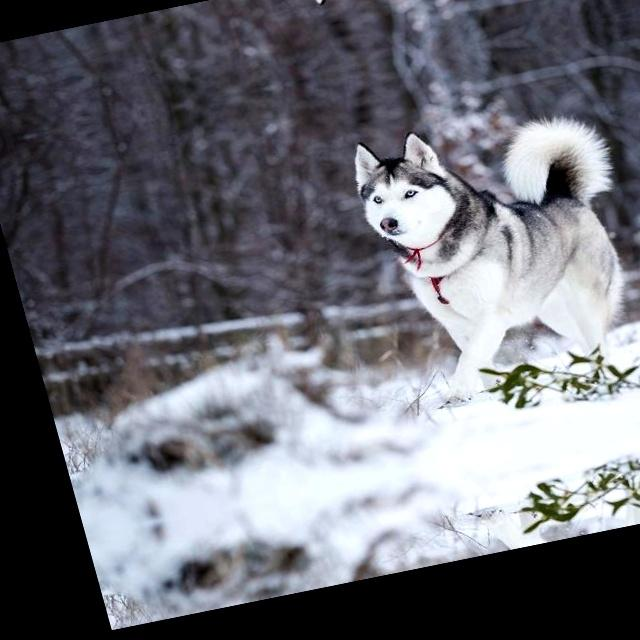dog: (349, 98, 640, 400), (453, 480, 640, 560)
